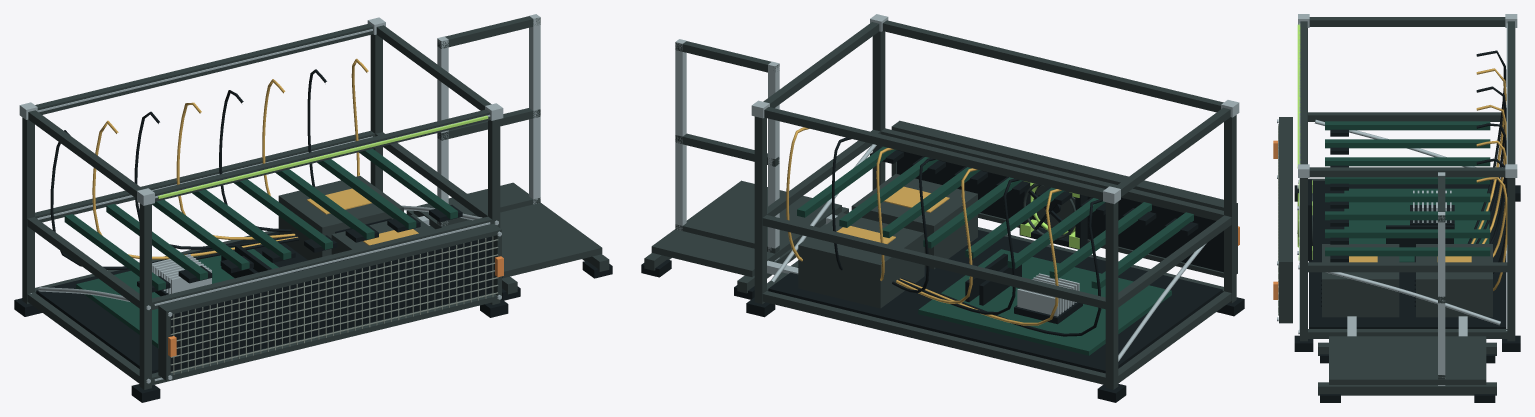
Rendered from rig-runtime-8-carbon-bracket.glb.
3 renders of one model, left to right at view 1: azimuth 30°, elevation 25°; view 2: azimuth 150°, elevation 25°; view 3: azimuth 270°, elevation 25°, orthographic. The views are drawn at different scales.
Visible parts, largest first — view 1: Anodized graphite (×3), filter-carbon, Circuit board, Brushed aluminium (×2), Filter fibres, Rubber and ABS, rig-runtime-8-carbon-bracket, Contacts, slot-cable-1, slot-cable-2, slot-cable-3, slot-cable-4 (+1 smaller); view 2: Anodized graphite (×3), Circuit board, Rubber and ABS (×2), Brushed aluminium (×2), filter-carbon, Contacts, slot-cable-1, slot-cable-2, slot-cable-3, slot-cable-4, slot-cable-5, Lime accents; view 3: Anodized graphite (×3), Circuit board, Rubber and ABS (×3), Brushed aluminium (×2), rig-runtime-8-carbon-bracket, slot-cable-1, slot-cable-2, slot-cable-3, Contacts, slot-cable-8, slot-cable-4, slot-cable-5 (+2 smaller).
Boxes of the visible parts, x1,y1,x2,y2 form: Anodized graphite (×3): [22, 16, 609, 389]; filter-carbon: [170, 236, 493, 371]; Circuit board: [64, 149, 457, 348]; Brushed aluminium (×2): [19, 14, 540, 383]; Filter fibres: [170, 236, 498, 374]; Rubber and ABS: [14, 205, 508, 402]; rig-runtime-8-carbon-bracket: [158, 115, 488, 198]; Contacts: [307, 188, 418, 245]; slot-cable-1: [50, 130, 299, 269]; slot-cable-2: [92, 120, 297, 259]; slot-cable-3: [134, 111, 296, 249]; slot-cable-4: [176, 102, 295, 239]; Anodized graphite (×3): [644, 20, 1237, 389]; Circuit board: [797, 146, 1193, 355]; Rubber and ABS (×2): [746, 146, 1244, 402]; Brushed aluminium (×2): [675, 14, 1239, 361]; filter-carbon: [897, 150, 1223, 272]; Contacts: [836, 186, 949, 244]; slot-cable-1: [901, 199, 1102, 336]; slot-cable-2: [900, 189, 1061, 325]; slot-cable-3: [898, 178, 1019, 314]; slot-cable-4: [896, 168, 977, 303]; slot-cable-5: [892, 158, 935, 293]; Lime accents: [1020, 181, 1079, 248]; Anodized graphite (×3): [1279, 17, 1515, 395]; Circuit board: [1325, 121, 1490, 262]; Rubber and ABS (×3): [1294, 129, 1520, 402]; Brushed aluminium (×2): [1298, 14, 1517, 385]; rig-runtime-8-carbon-bracket: [1297, 24, 1300, 168]; slot-cable-1: [1467, 50, 1506, 243]; slot-cable-2: [1471, 68, 1506, 243]; slot-cable-3: [1475, 86, 1506, 243]; Contacts: [1349, 256, 1471, 262]; slot-cable-8: [1476, 177, 1507, 290]; slot-cable-4: [1476, 105, 1506, 243]; slot-cable-5: [1476, 123, 1506, 243].
Size of the model in its own units: 8.02 by 3.32 by 4.01.
